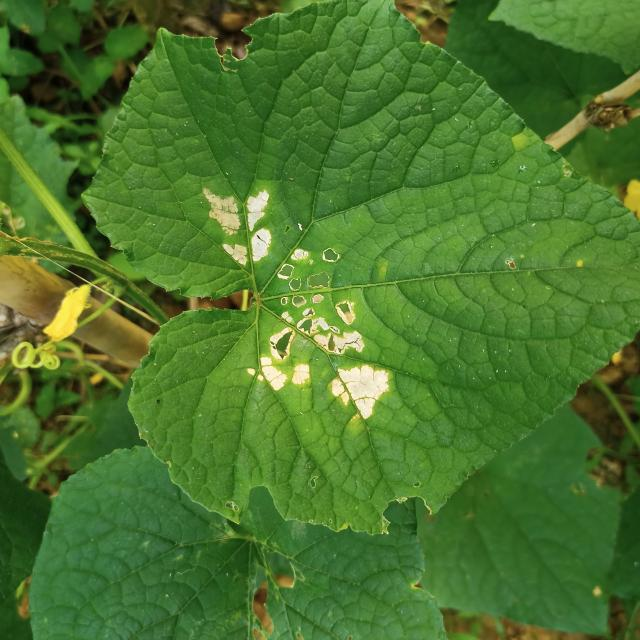disease_cucumber: (241, 241, 396, 426), (200, 180, 279, 278)
